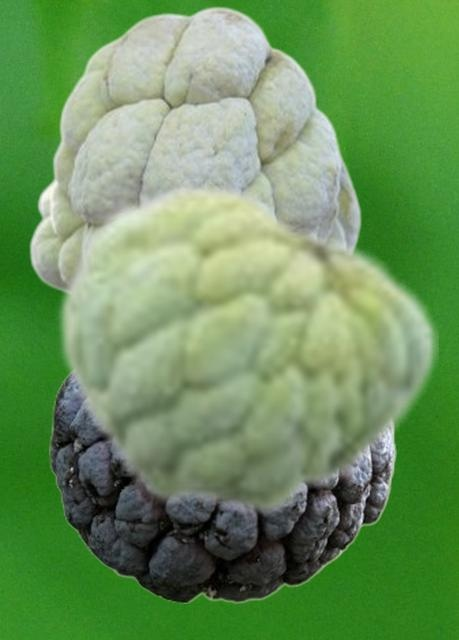atis: (54, 179, 437, 518), (28, 5, 361, 293), (49, 374, 395, 602)
